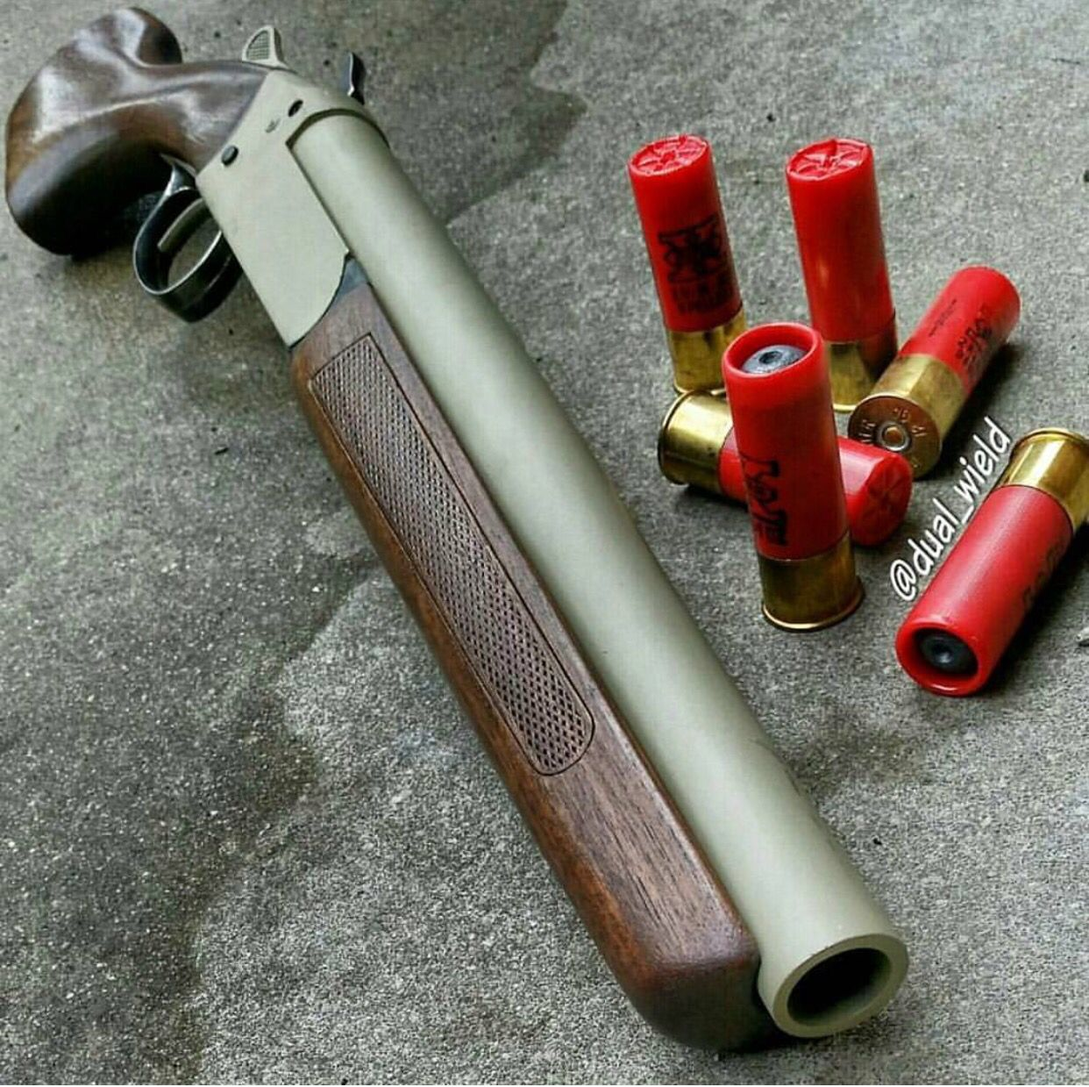GUN: (3, 2, 915, 1061)
